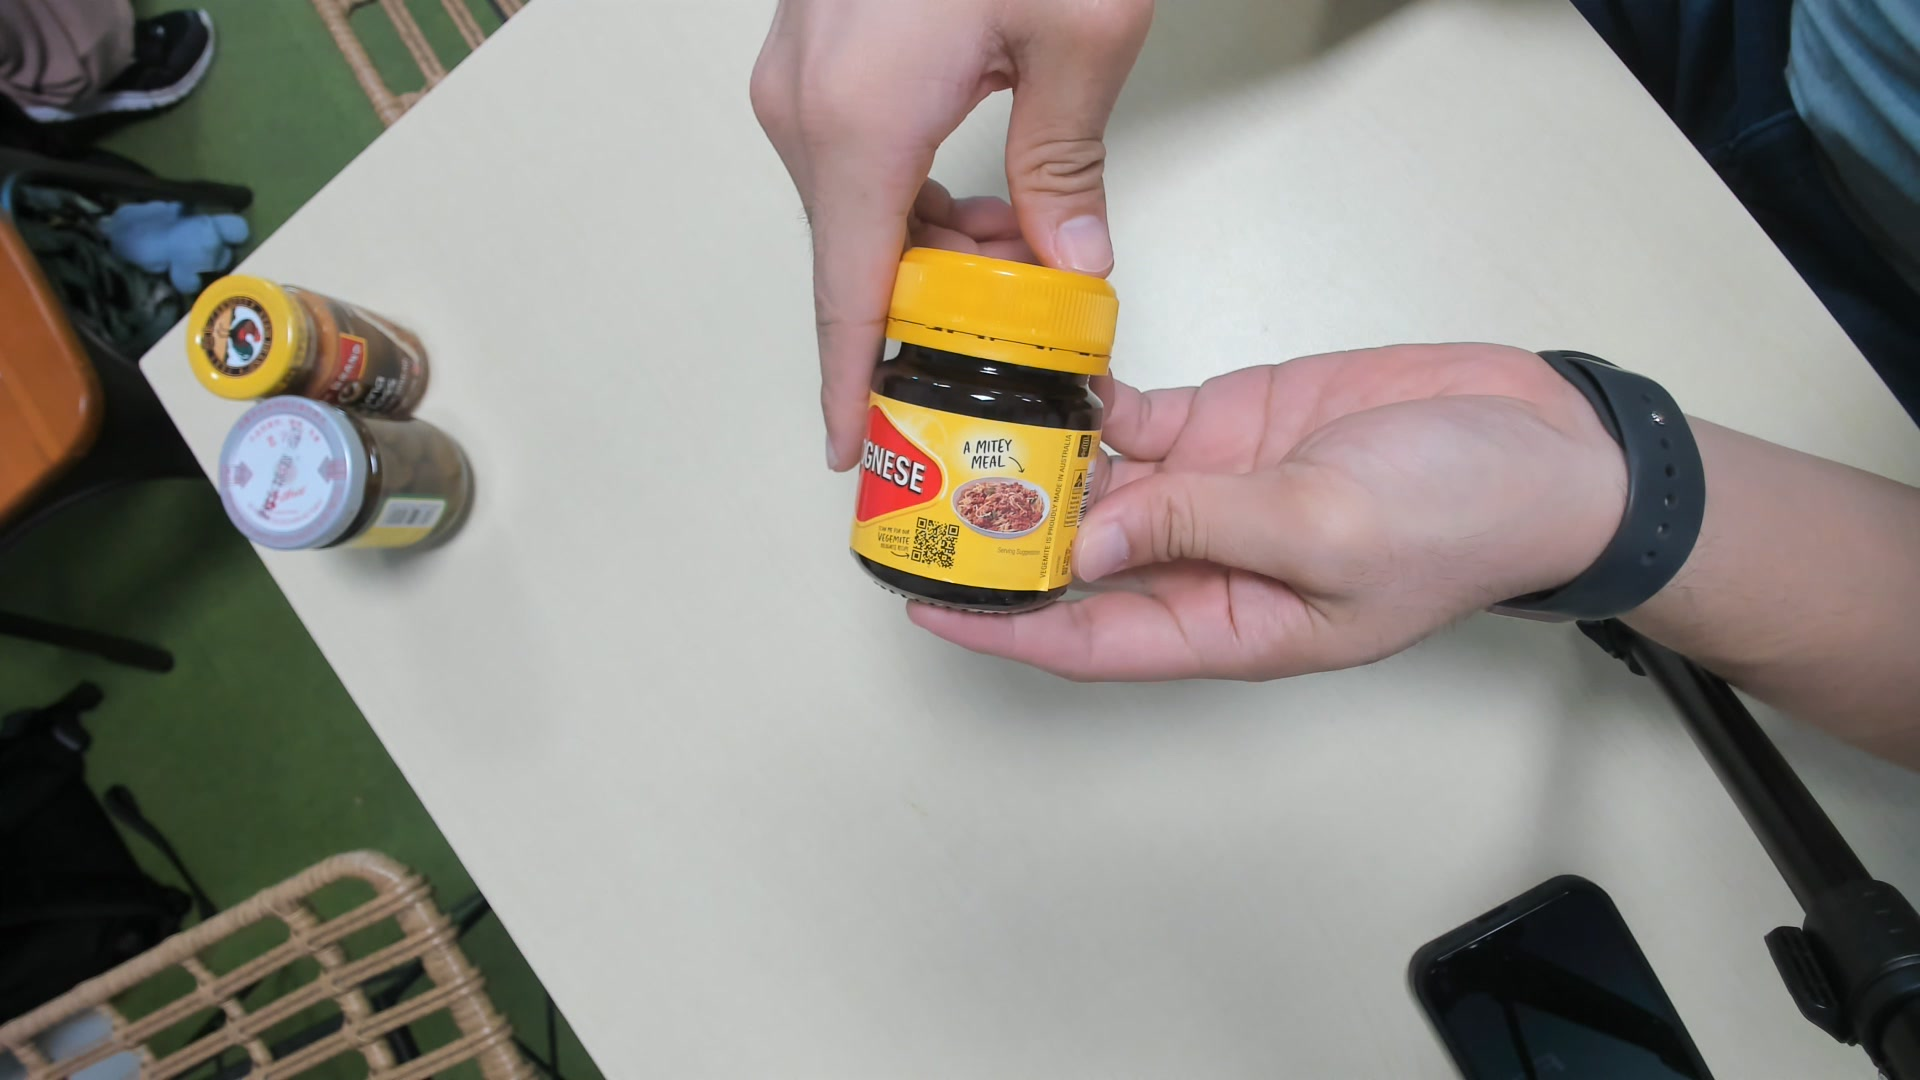OtherSauceDressing_200-299g_Halal_NonHealthy: (851, 247, 1105, 600)
